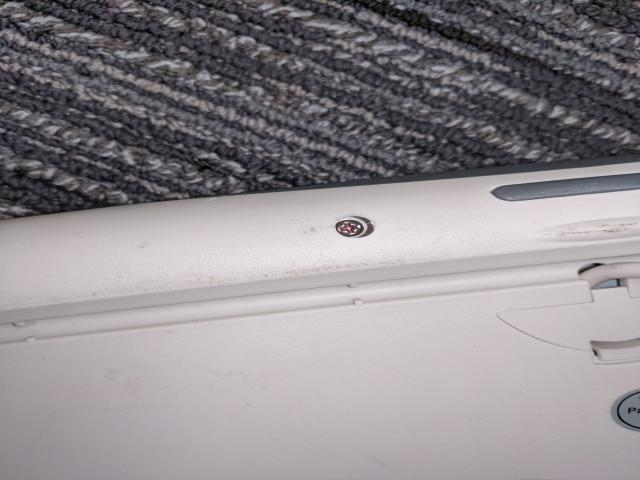CRS: (332, 218, 367, 238)
